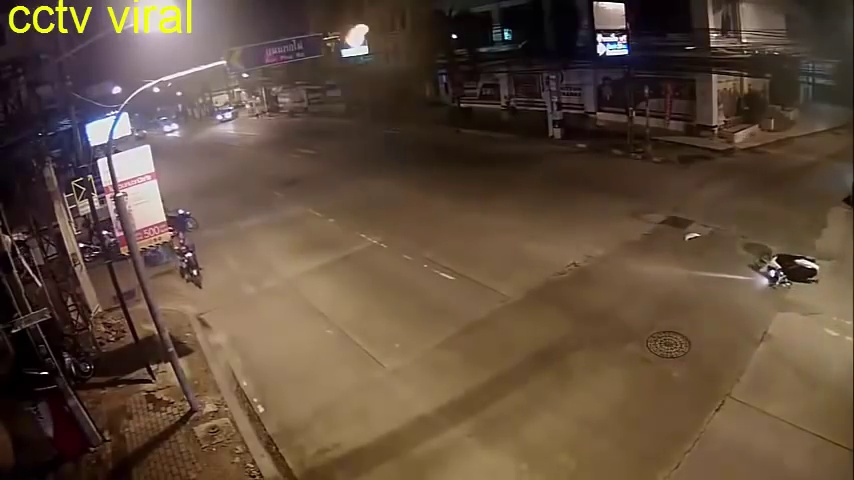motorbike: (170, 230, 207, 290)
